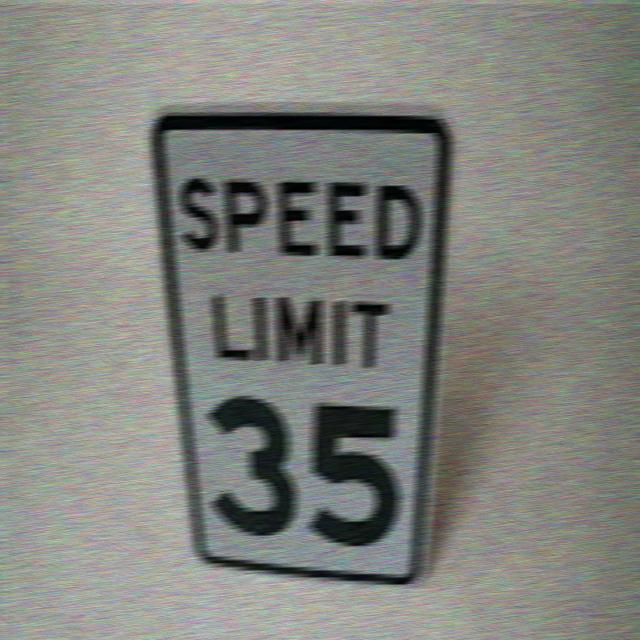speedLimit35: (150, 108, 458, 584)
